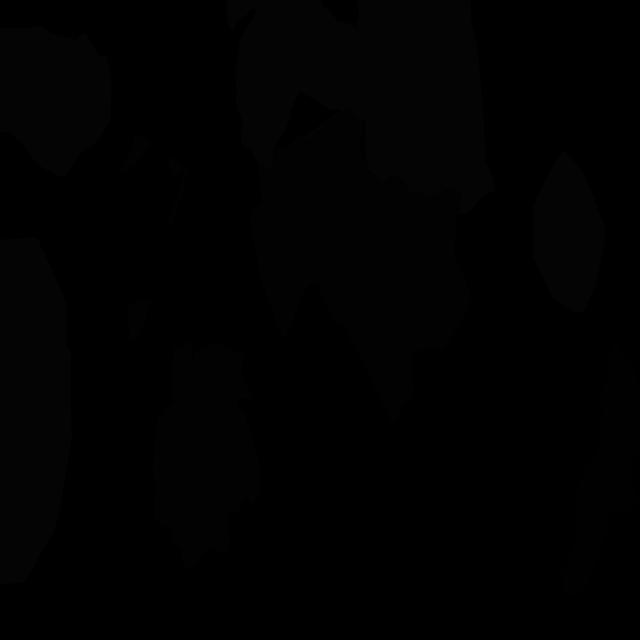cardboard: (250, 108, 472, 424), (152, 341, 261, 569), (166, 154, 188, 227), (120, 134, 152, 175), (128, 298, 151, 342)
rigid_plastic: (562, 340, 640, 597)
soft_plastic: (356, 0, 495, 215), (226, 0, 388, 172), (0, 237, 72, 584), (0, 25, 112, 177), (533, 150, 605, 312)
